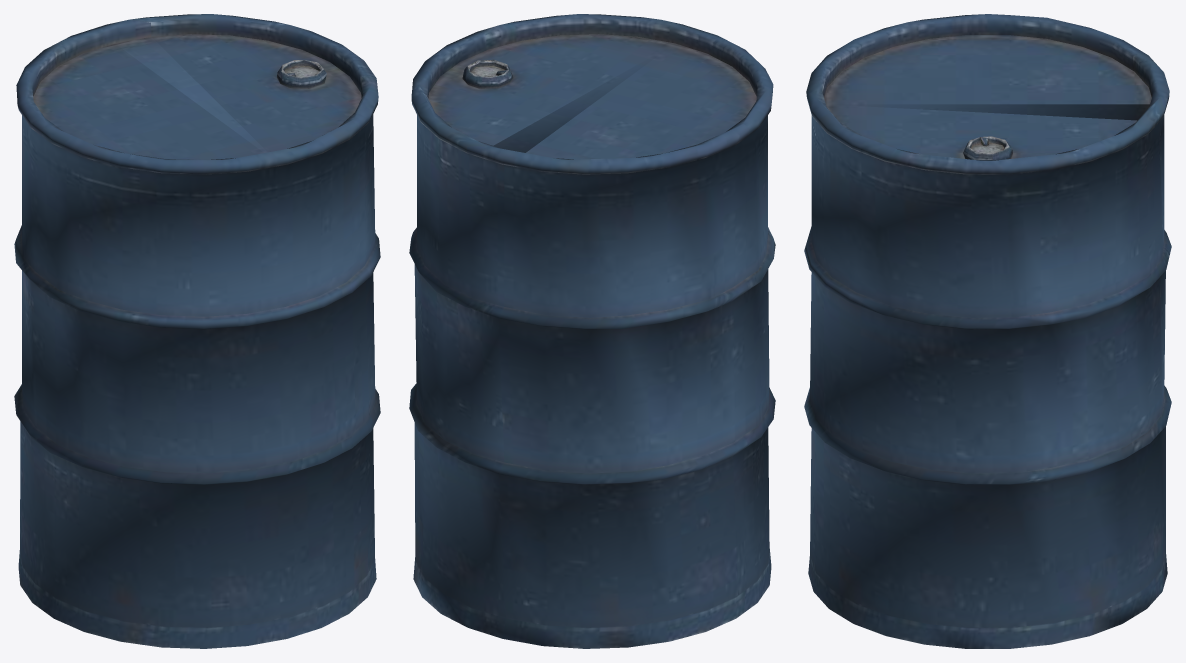
File: barrel_03.glb
The picture shows the model from 3 angles, left to right: view 1: azimuth 30°, elevation 25°; view 2: azimuth 150°, elevation 25°; view 3: azimuth 270°, elevation 25°; orthographic projection.
Parts seen in each view (by area): view 1: barrel_03; view 2: barrel_03; view 3: barrel_03.
Boxes of the visible parts, box(x1,y1,x2,y2) form: barrel_03: box(14, 14, 380, 648); barrel_03: box(409, 14, 775, 648); barrel_03: box(804, 14, 1171, 648).
Bounding box in the file's own units: 0.6337 × 0.9305 × 0.638.
Materials: 1 (1 with a texture image).
